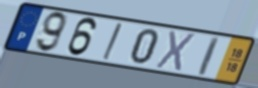0: (129, 28, 162, 65)
6: (65, 17, 98, 58)
9: (34, 10, 68, 54)
I: (197, 35, 221, 78), (100, 22, 124, 62)
X: (153, 29, 198, 74)
